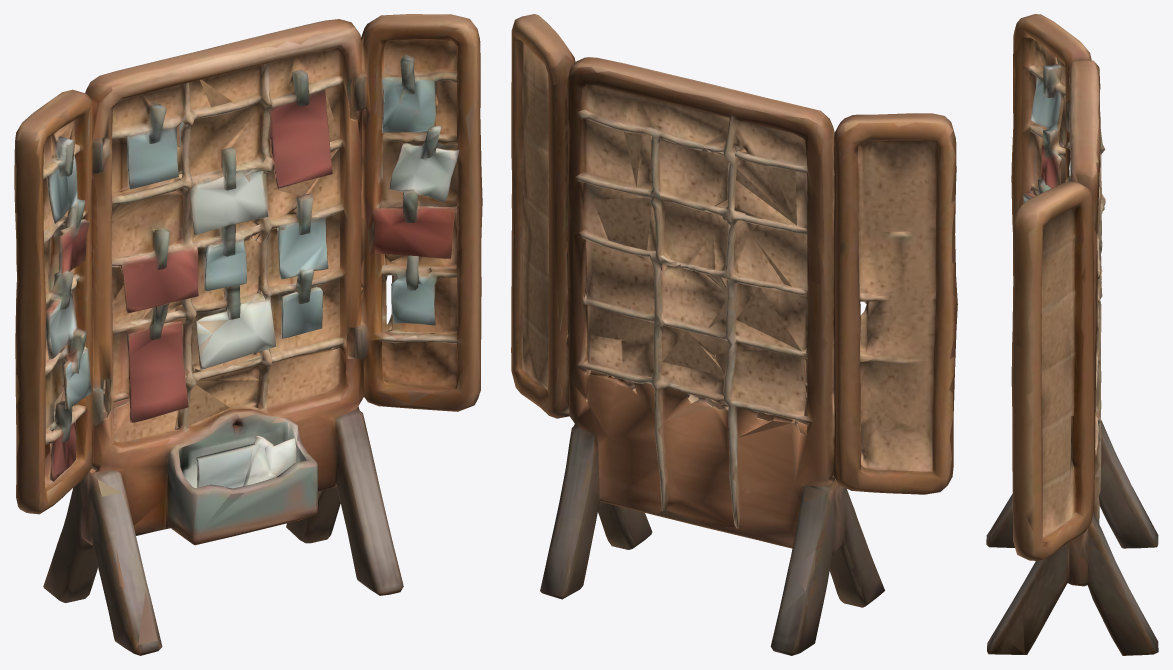
File: sc-paper-noticeboard.glb
The picture shows the model from 3 angles, left to right: view 1: azimuth 30°, elevation 25°; view 2: azimuth 150°, elevation 25°; view 3: azimuth 270°, elevation 25°; orthographic projection. The views are drawn at different scales.
Visible parts, largest first — view 1: geometry_0; view 2: geometry_0; view 3: geometry_0.
Part boxes in pixels (box(x1,y1,x2,y2)): geometry_0: box(14, 14, 482, 655); geometry_0: box(511, 14, 957, 655); geometry_0: box(986, 14, 1158, 655).
Bounding box in the file's own units: 0.9063 × 1 × 0.3209.
Materials: 1 (1 with a texture image).
